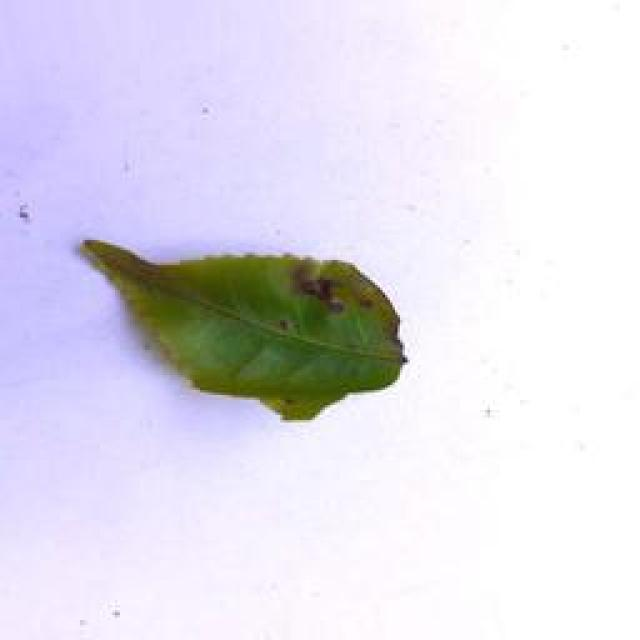Helopeltis: (91, 232, 409, 430)
